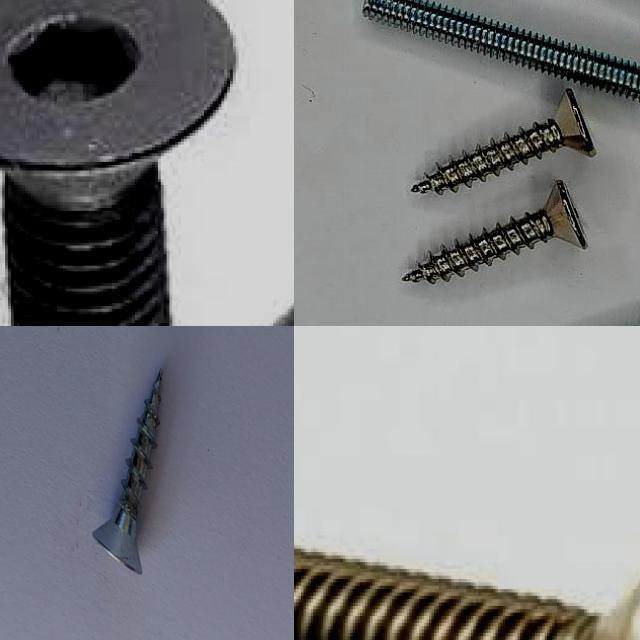Screw: (0, 0, 236, 326), (362, 0, 640, 101), (411, 91, 593, 195), (402, 182, 587, 284), (92, 369, 162, 574)
